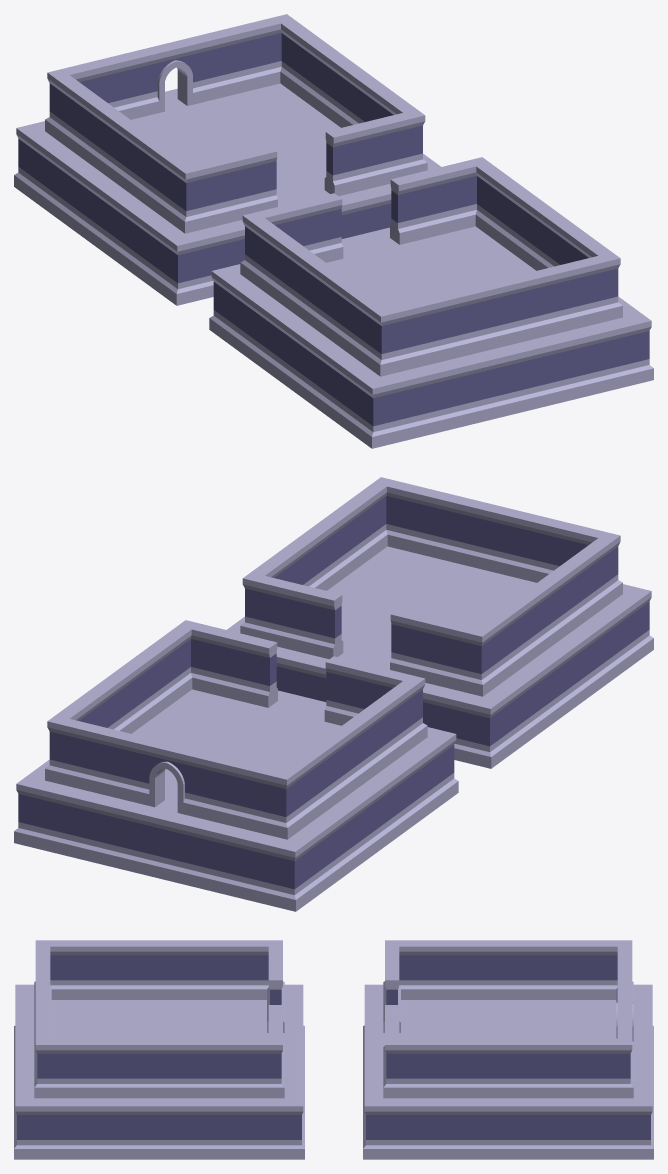
File: Level01.fbx
3 renders of one model, top to bottom at view 1: azimuth 30°, elevation 25°; view 2: azimuth 150°, elevation 25°; view 3: azimuth 270°, elevation 25°, orthographic. The views are drawn at different scales.
Visible parts, largest first — view 1: wall (×21), floor_side (×18), wall_corner (×8), floor_corner (×5), floor (×10), wall_gate; view 2: wall (×21), floor_side (×18), wall_corner (×8), floor_corner (×5), floor (×10), wall_gate; view 3: wall (×21), floor_side (×24), floor_corner (×8), wall_corner (×8), floor (×12), wall_gate.
Boxes of the visible parts, left/top/right/bottom form: wall (×21): left=66, top=22, right=599, bottom=367; floor_side (×18): left=46, top=88, right=597, bottom=434; wall_corner (×8): left=45, top=14, right=622, bottom=376; floor_corner (×5): left=14, top=121, right=653, bottom=448; floor (×10): left=159, top=96, right=516, bottom=302; wall_gate: left=139, top=36, right=204, bottom=115; wall (×21): left=68, top=485, right=601, bottom=830; floor_side (×18): left=70, top=551, right=621, bottom=897; wall_corner (×8): left=45, top=477, right=622, bottom=839; floor_corner (×5): left=14, top=584, right=653, bottom=911; floor (×10): left=151, top=559, right=508, bottom=765; wall_gate: left=138, top=737, right=202, bottom=816; wall (×21): left=34, top=940, right=633, bottom=1098; floor_side (×24): left=14, top=1000, right=653, bottom=1159; floor_corner (×8): left=14, top=984, right=653, bottom=1159; wall_corner (×8): left=34, top=940, right=633, bottom=1098; floor (×12): left=72, top=1008, right=595, bottom=1038; wall_gate: left=616, top=980, right=633, bottom=1046.
Bounding box in the file's own units: 50 × 20 × 110.
